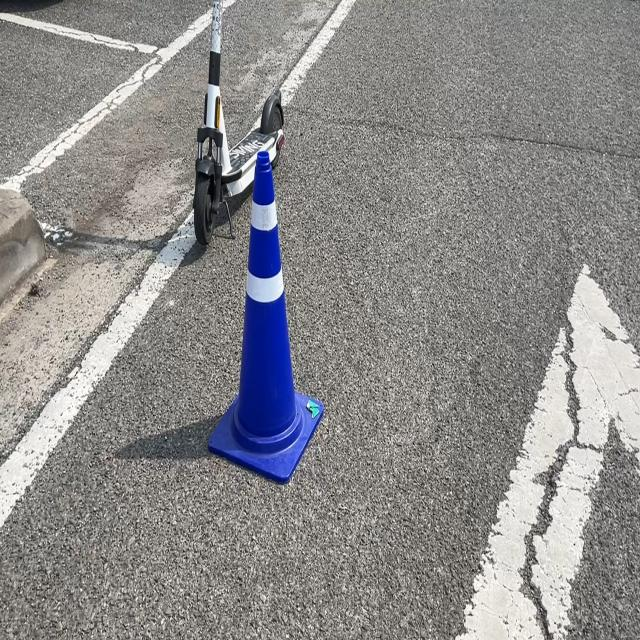b_rub: (208, 150, 324, 483)
